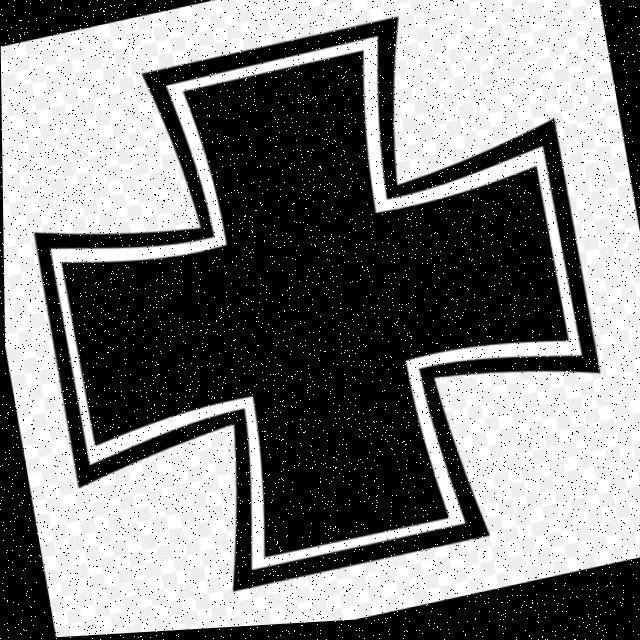cross: (26, 19, 602, 588)
